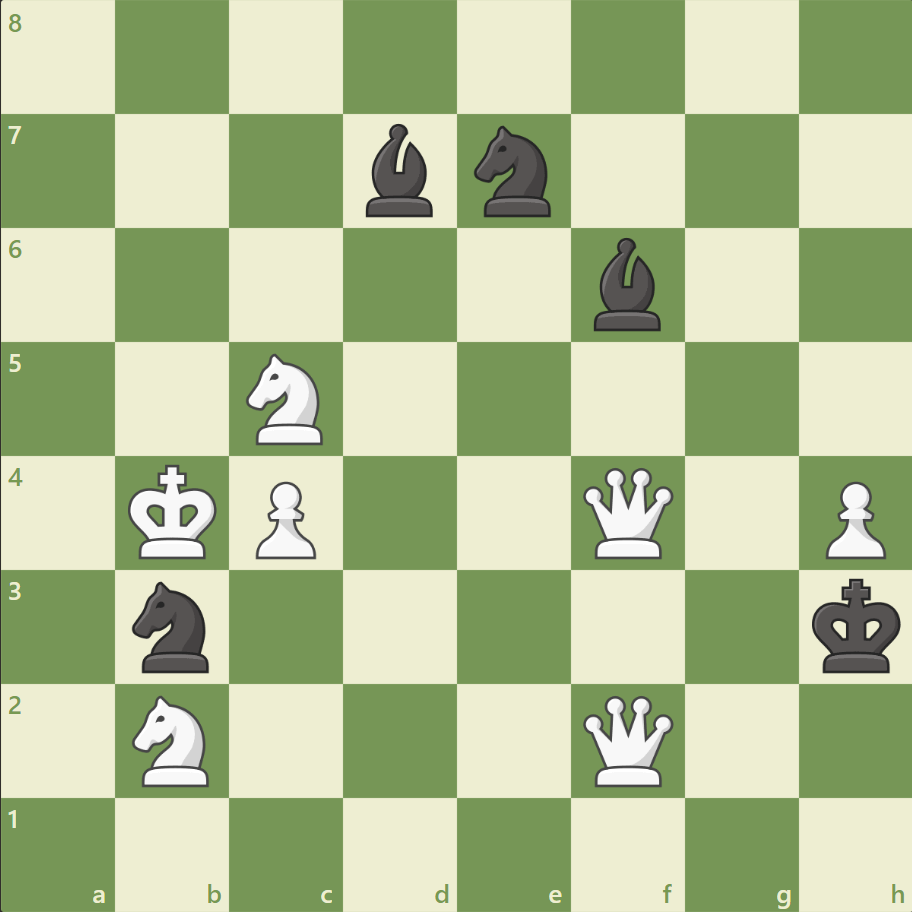K: (124, 458, 224, 566)
N: (124, 688, 222, 791), (238, 348, 335, 450)
P: (247, 473, 322, 564), (815, 473, 889, 564)
Q: (578, 463, 677, 562), (578, 690, 677, 789)
b: (585, 233, 669, 336), (358, 120, 442, 222)
k: (806, 571, 906, 679)
n: (124, 575, 222, 677), (465, 121, 562, 223)
